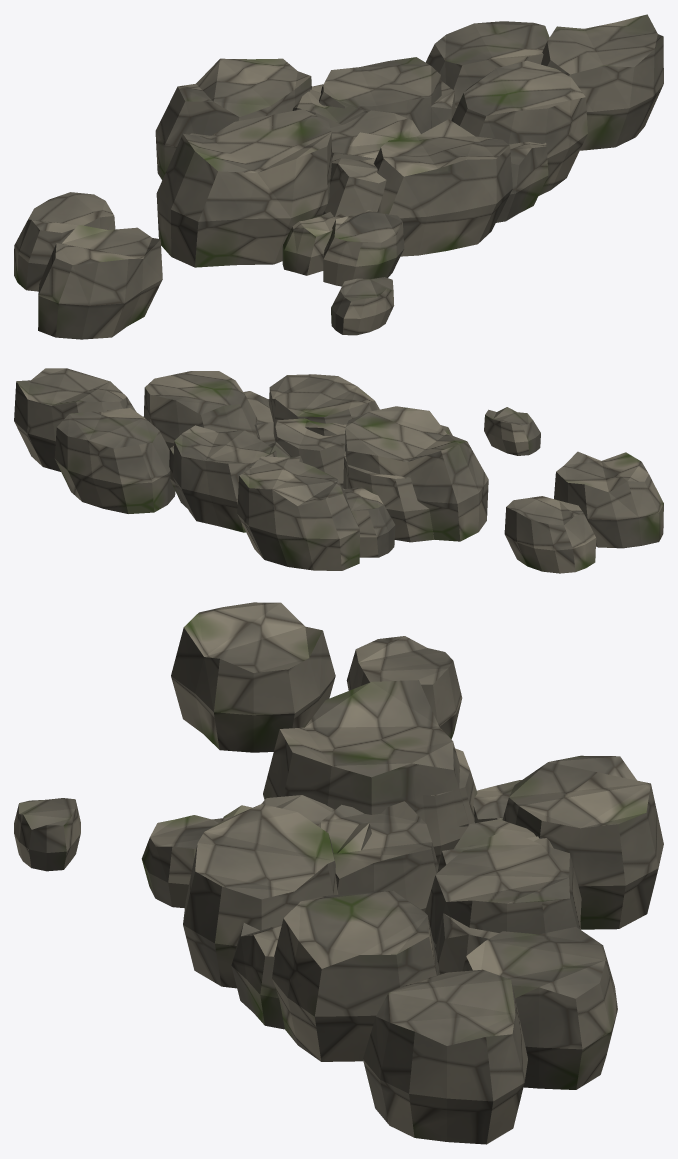
Rendered from ScreeCluster.fbx.
3 views of the same model, one above another, from view 1: azimuth 30°, elevation 25°; view 2: azimuth 150°, elevation 25°; view 3: azimuth 270°, elevation 25° (orthographic). The views are drawn at different scales.
Parts seen in each view (by area): view 1: ScreeCluster; view 2: ScreeCluster; view 3: ScreeCluster.
Boxes of the visible parts, left/top/right/bottom form: ScreeCluster: left=14, top=14, right=663, bottom=339; ScreeCluster: left=14, top=368, right=663, bottom=573; ScreeCluster: left=14, top=602, right=663, bottom=1144.
Size of the model in its own units: 4.08 by 0.5848 by 2.38.
